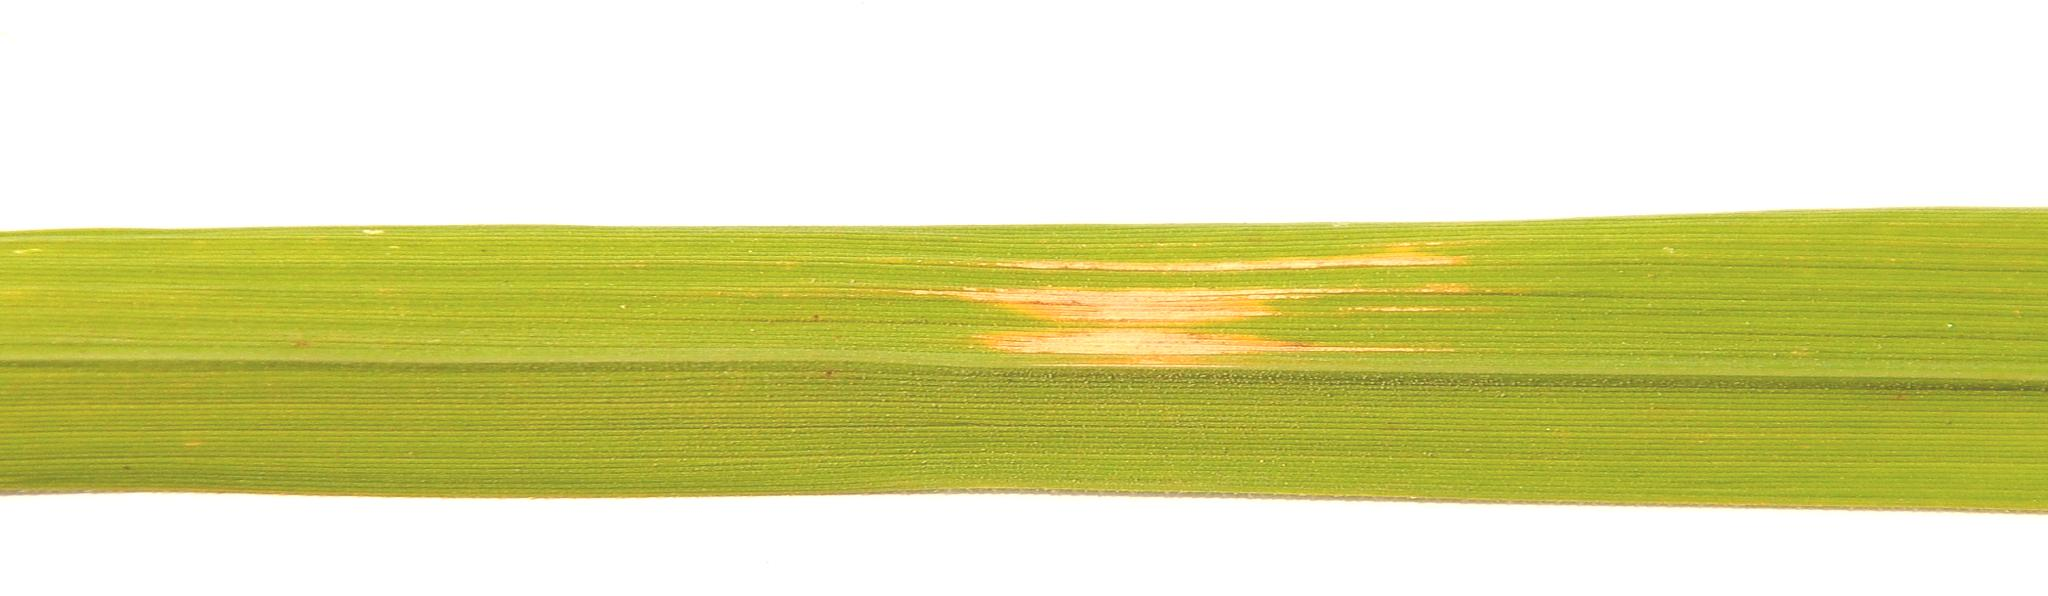2 BacterialBlight: (820, 209, 1549, 409)
